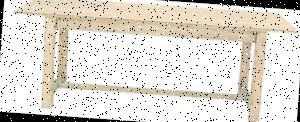Mesa: (6, 0, 299, 121)
